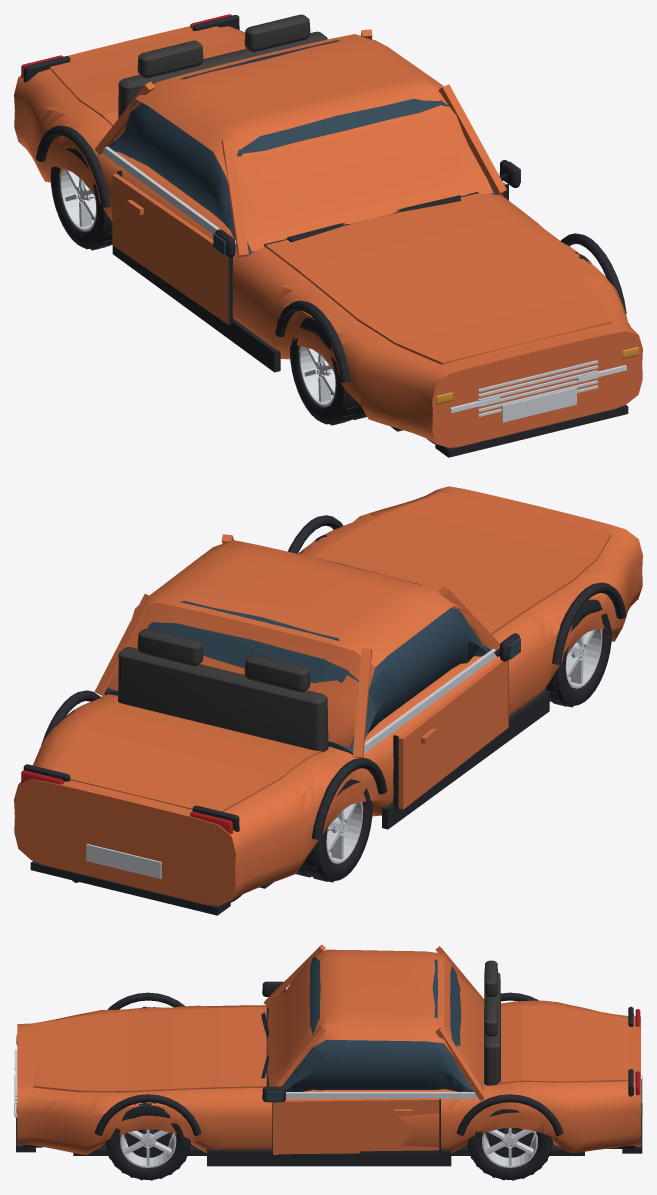
The model's file is MuscleCoupeHD.fbx.
3 views of the same model, one above another, from view 1: azimuth 30°, elevation 25°; view 2: azimuth 150°, elevation 25°; view 3: azimuth 270°, elevation 25° (orthographic). The views are drawn at different scales.
Parts seen in each view (by area): view 1: body_classic-coupe_0, body_bonnet.001, trim_classic-coupe_1, glass_classic-coupe_2, body_door-front-left.001, body_boot.001, interior_classic-coupe_3, rim_classic-coupe_6, trim_wheel-front-left_trim, trim_wheel-rear-left_trim, rim_wheel-rear-left_alloy, rim_wheel-front-left_alloy; view 2: body_classic-coupe_0, body_bonnet.001, body_boot.001, interior_classic-coupe_3, glass_classic-coupe_2, trim_classic-coupe_1, body_door-front-left.001, rim_classic-coupe_6, trim_wheel-front-left_trim, trim_wheel-rear-left_trim, rim_wheel-rear-left_alloy, rim_wheel-front-left_alloy (+1 smaller); view 3: body_classic-coupe_0, body_bonnet.001, glass_classic-coupe_2, trim_classic-coupe_1, body_boot.001, body_door-front-right.001, trim_wheel-front-right_trim, trim_wheel-rear-right_trim, interior_classic-coupe_3, rim_classic-coupe_6, rim_wheel-rear-right_alloy, rim_wheel-front-right_alloy.
Part boxes in pixels (x1,y1,x2,y2): body_classic-coupe_0: [14, 26, 642, 447]; body_bonnet.001: [265, 193, 611, 364]; trim_classic-coupe_1: [23, 15, 628, 457]; glass_classic-coupe_2: [108, 40, 520, 256]; body_door-front-left.001: [112, 173, 228, 324]; body_boot.001: [50, 26, 246, 125]; interior_classic-coupe_3: [118, 14, 327, 118]; rim_classic-coupe_6: [102, 146, 598, 422]; trim_wheel-front-left_trim: [290, 318, 366, 425]; trim_wheel-rear-left_trim: [50, 148, 112, 250]; rim_wheel-rear-left_alloy: [60, 169, 96, 231]; rim_wheel-front-left_alloy: [299, 346, 336, 406]; body_classic-coupe_0: [14, 486, 642, 905]; body_bonnet.001: [313, 492, 611, 640]; body_boot.001: [52, 701, 328, 811]; interior_classic-coupe_3: [118, 628, 328, 752]; glass_classic-coupe_2: [104, 557, 520, 754]; trim_classic-coupe_1: [23, 515, 628, 915]; body_door-front-left.001: [398, 659, 508, 809]; rim_classic-coupe_6: [86, 648, 496, 878]; trim_wheel-front-left_trim: [545, 599, 611, 707]; trim_wheel-rear-left_trim: [296, 779, 372, 882]; rim_wheel-rear-left_alloy: [326, 802, 362, 863]; rim_wheel-front-left_alloy: [565, 629, 602, 688]; body_classic-coupe_0: [17, 944, 640, 1154]; body_bonnet.001: [33, 1007, 266, 1092]; glass_classic-coupe_2: [266, 956, 483, 1101]; trim_classic-coupe_1: [16, 981, 642, 1166]; body_boot.001: [486, 1005, 629, 1085]; body_door-front-right.001: [273, 1098, 439, 1154]; trim_wheel-front-right_trim: [106, 1102, 190, 1180]; trim_wheel-rear-right_trim: [467, 1109, 552, 1180]; interior_classic-coupe_3: [484, 960, 500, 1085]; rim_classic-coupe_6: [14, 1017, 642, 1115]; rim_wheel-rear-right_alloy: [482, 1128, 537, 1167]; rim_wheel-front-right_alloy: [120, 1129, 176, 1167].
Size of the model in its own units: 187 by 117 by 453.
